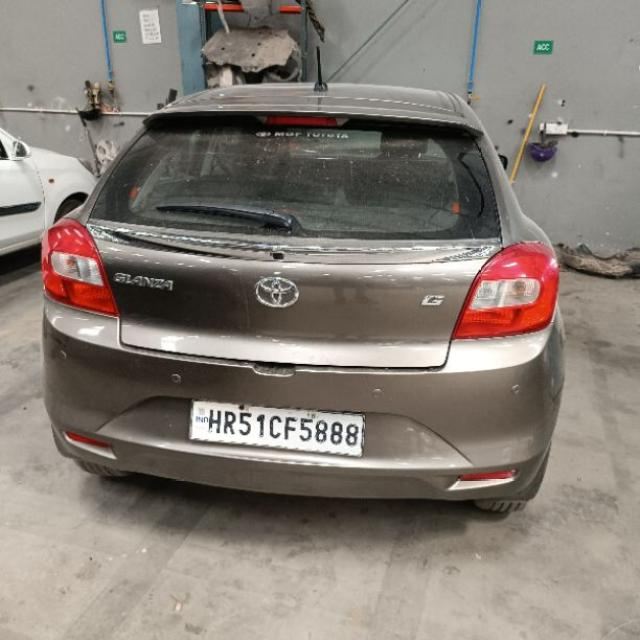license_plate: (187, 398, 365, 457)
